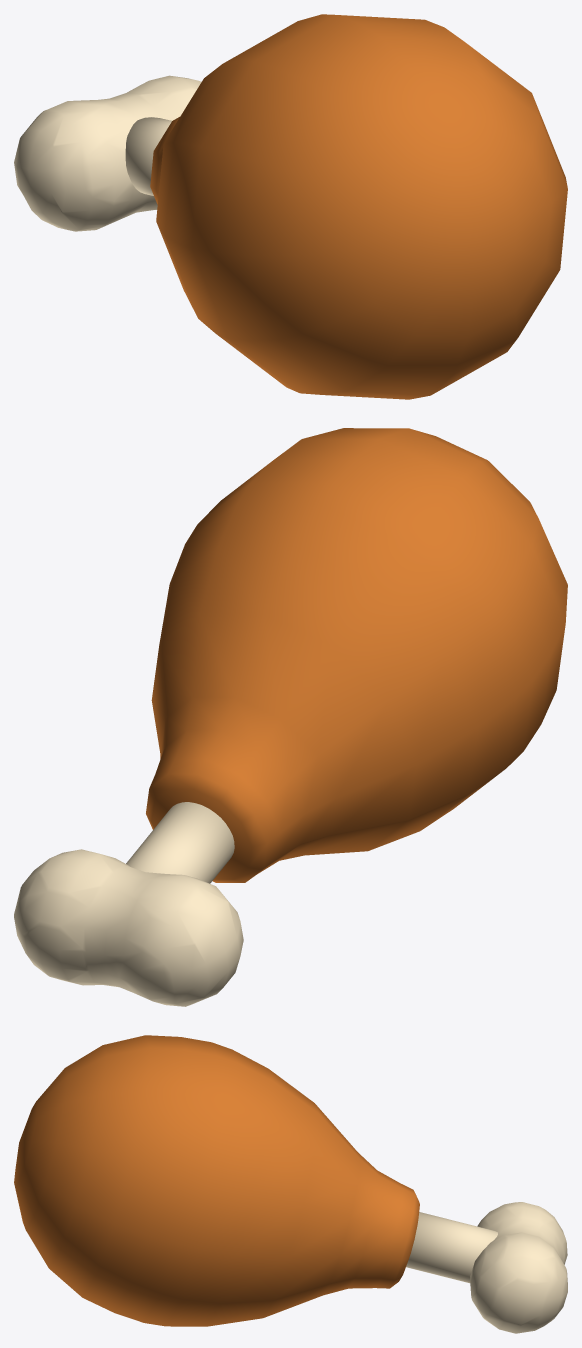
File: poulet.glb
3 renders of one model, top to bottom at view 1: azimuth 30°, elevation 25°; view 2: azimuth 150°, elevation 25°; view 3: azimuth 270°, elevation 25°, orthographic. The views are drawn at different scales.
Visible parts, largest first — view 1: Mball.002; view 2: Mball.002; view 3: Mball.002.
Part boxes in pixels (x1,y1,x2,y2): Mball.002: (14,14,567,399); Mball.002: (14,428,567,1006); Mball.002: (14,1035,567,1333).
Size of the model in its own units: 1.5 by 1.52 by 2.87.
